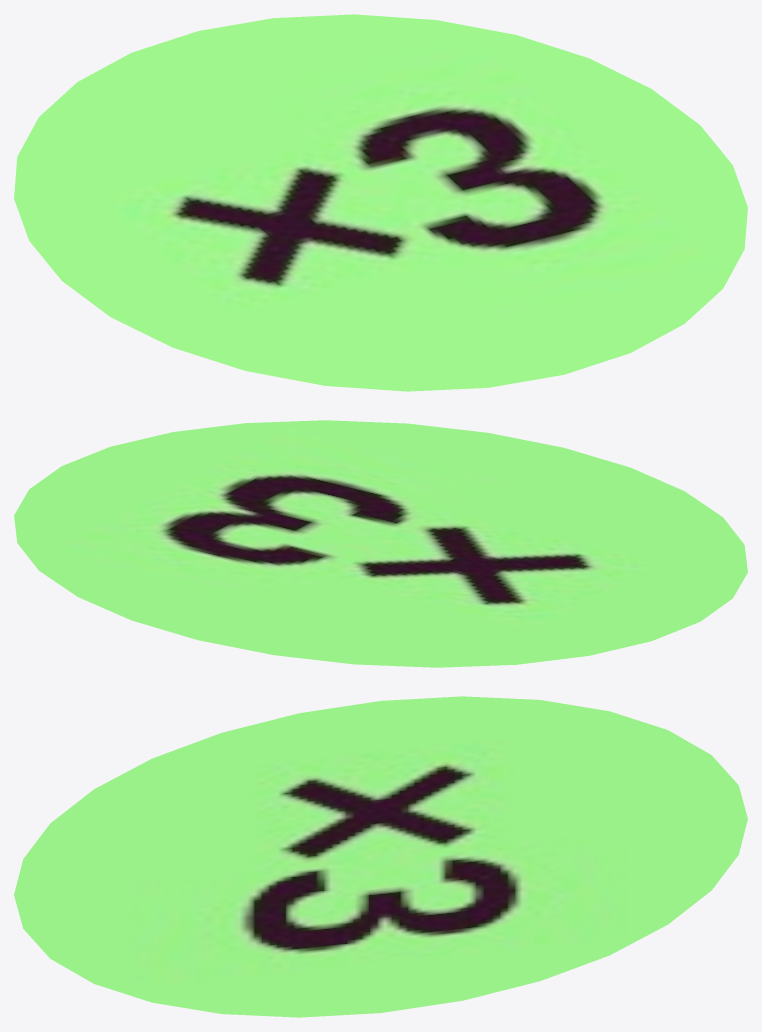
The model's file is pp_light_mult3.glb.
3 views of the same model, one above another, from view 1: azimuth 30°, elevation 25°; view 2: azimuth 150°, elevation 25°; view 3: azimuth 270°, elevation 25° (orthographic).
Visible parts, largest first — view 1: MultLight; view 2: MultLight; view 3: MultLight.
Part boxes in pixels (x1,y1,x2,y2): MultLight: (14, 14, 747, 391); MultLight: (14, 420, 747, 667); MultLight: (14, 696, 747, 1017).
Bounding box in the file's own units: 0.025 × 0.00283 × 0.0248.
1 material, 1 textured.
